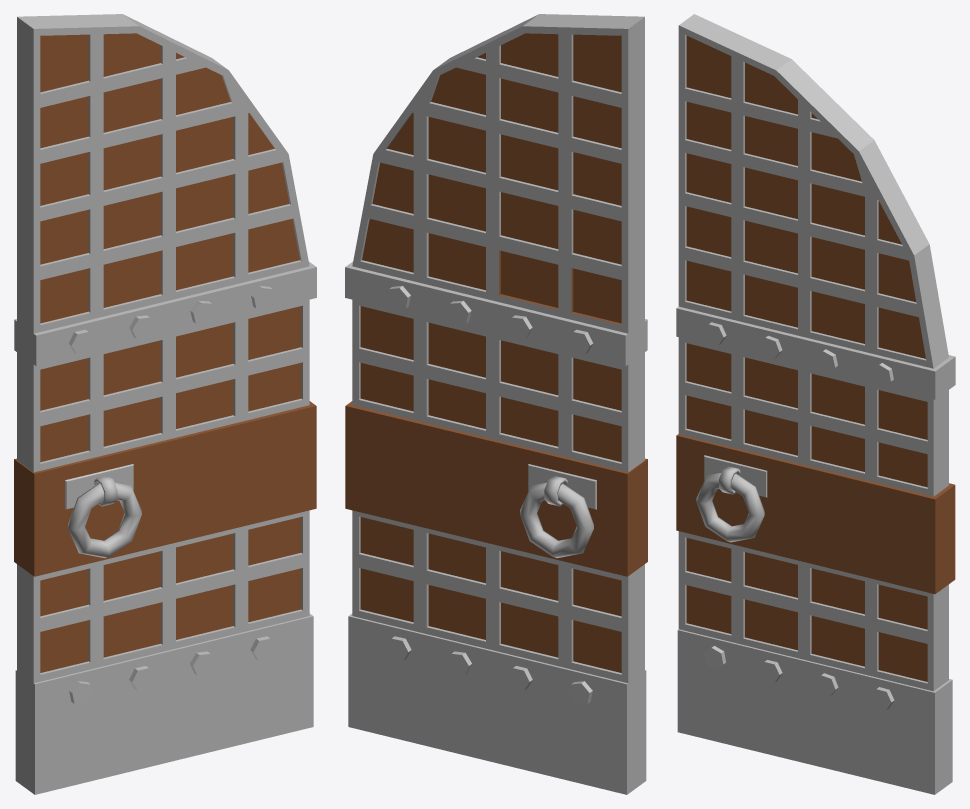
File: DoorEscapeR.fbx
The picture shows the model from 3 angles, left to right: view 1: azimuth 30°, elevation 25°; view 2: azimuth 150°, elevation 25°; view 3: azimuth 330°, elevation 25°; orthographic projection. The views are drawn at different scales.
Parts seen in each view (by area): view 1: DoorEscapeR; view 2: DoorEscapeR; view 3: DoorEscapeR.
Part boxes in pixels (left/top/right/bottom): DoorEscapeR: left=14, top=14, right=316, bottom=794; DoorEscapeR: left=345, top=14, right=647, bottom=794; DoorEscapeR: left=676, top=14, right=955, bottom=794.
Size of the model in its own units: 105 by 271 by 29.13.
